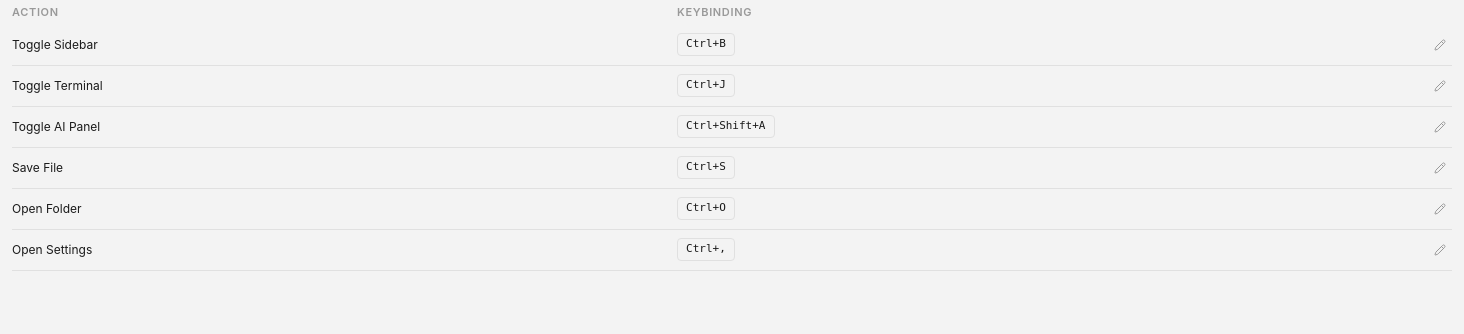
Test: KeybindingsSettings › cancels recording on Escape
Click the button titled "Edit" in the row of "Toggle Sidebar" at (1440, 44), box [1428,32,1452,56]
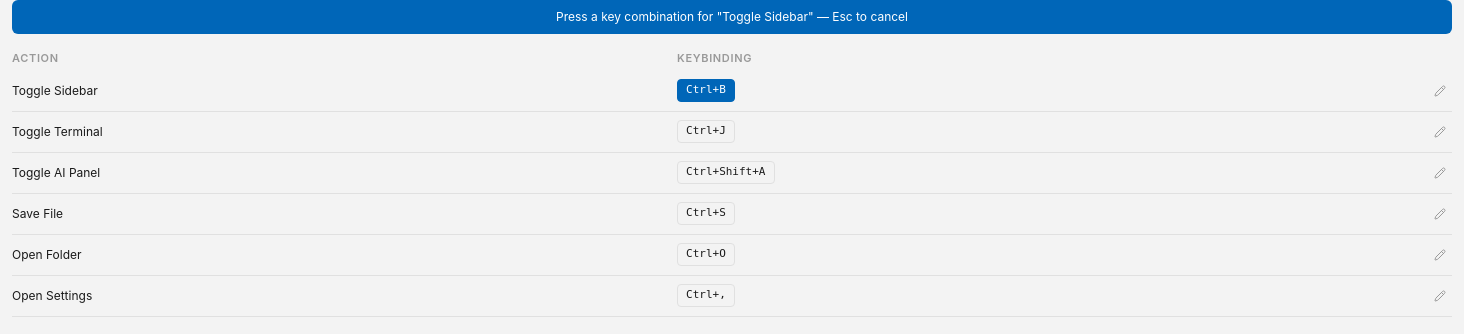
Expected: the text "Press a key combination for \"Toggle Sidebar\" — Esc to cancel" is shown, [12,0,1452,34]
Press Escape
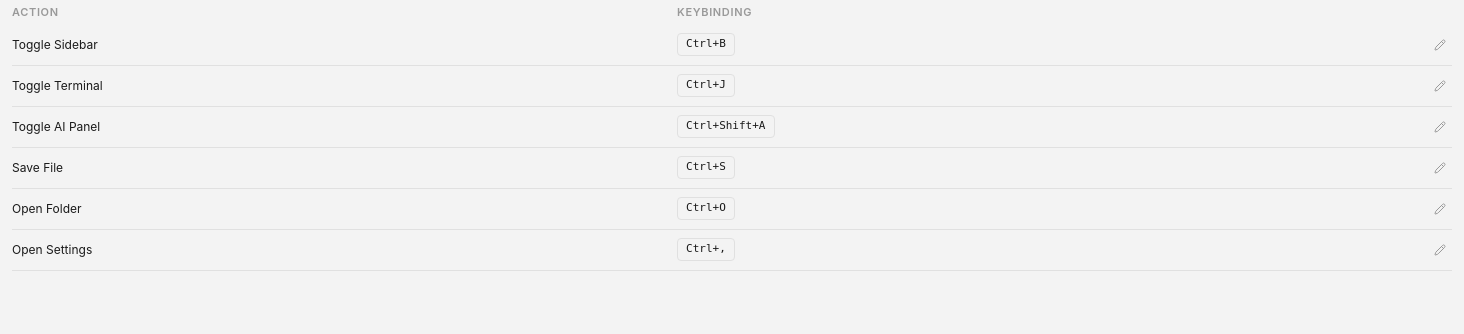
Expected: the text "Press a key" is gone
